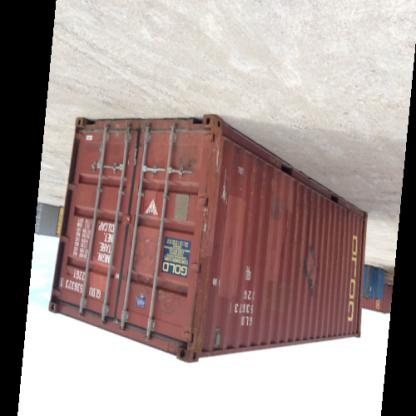Damage: (217, 159, 252, 213), (296, 240, 323, 300), (128, 242, 156, 288), (174, 139, 202, 183), (265, 196, 291, 232), (238, 261, 258, 293), (208, 272, 226, 296)
